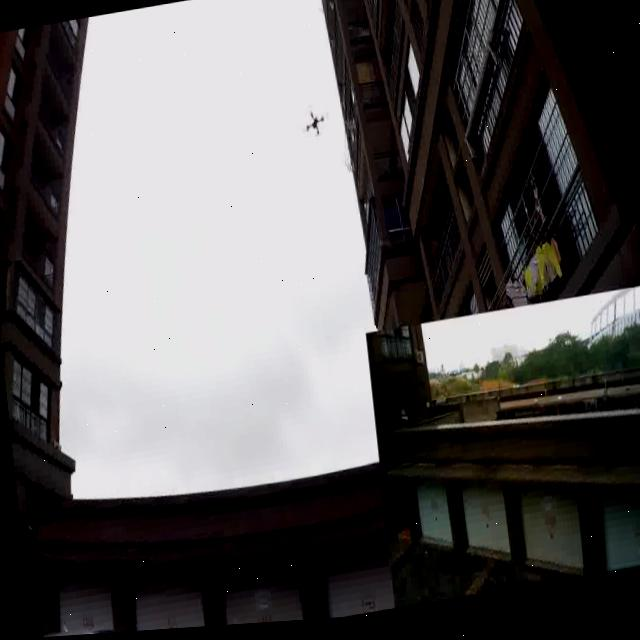drone: (302, 107, 327, 145)
